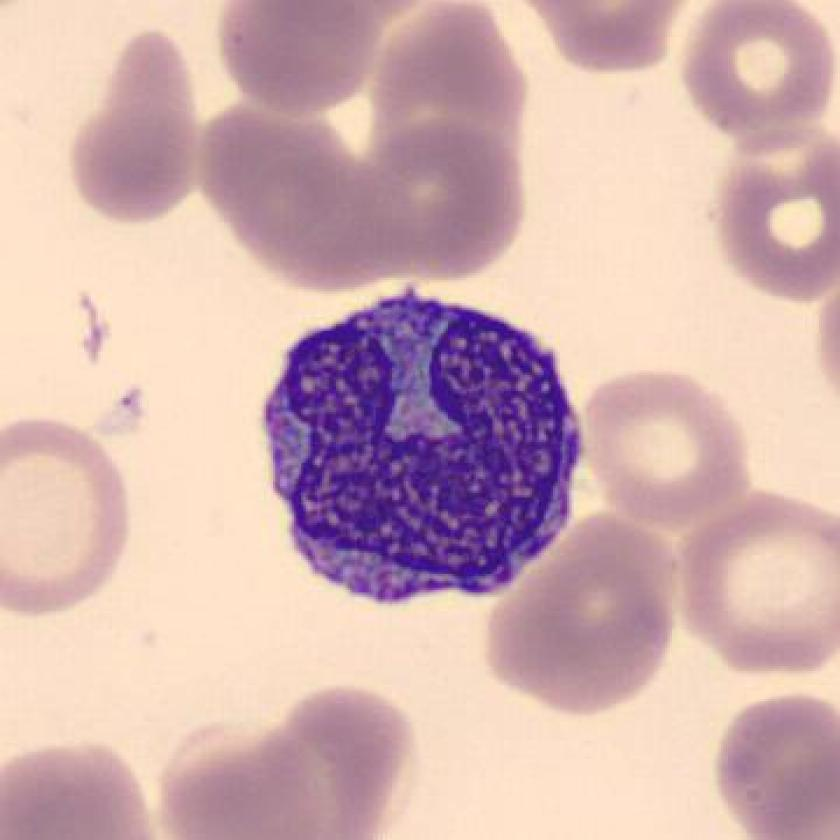monocyte: (234, 267, 601, 626)
